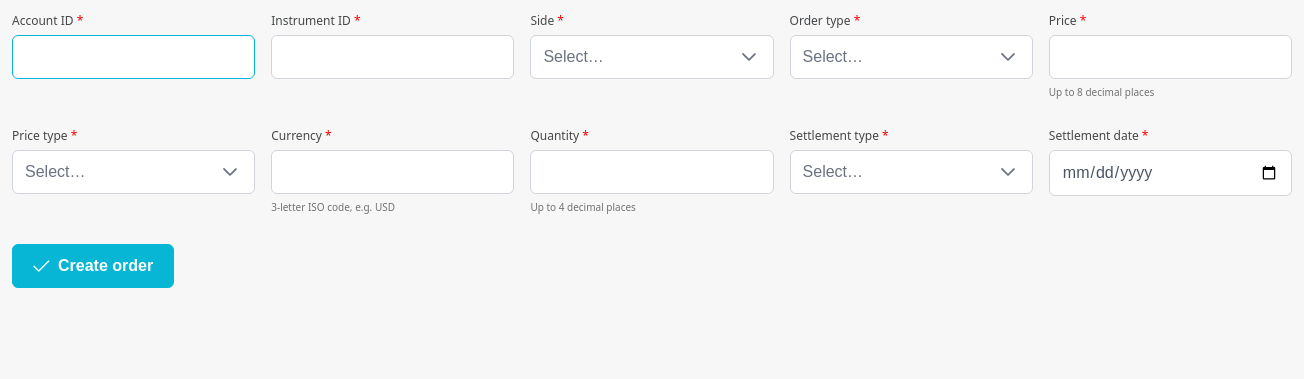
Test case: OrderForm › blocks submission and announces errors when required fields are empty
The image size is (1304, 379).
Click the button "Create order" at (93, 266), box [12,244,174,288]
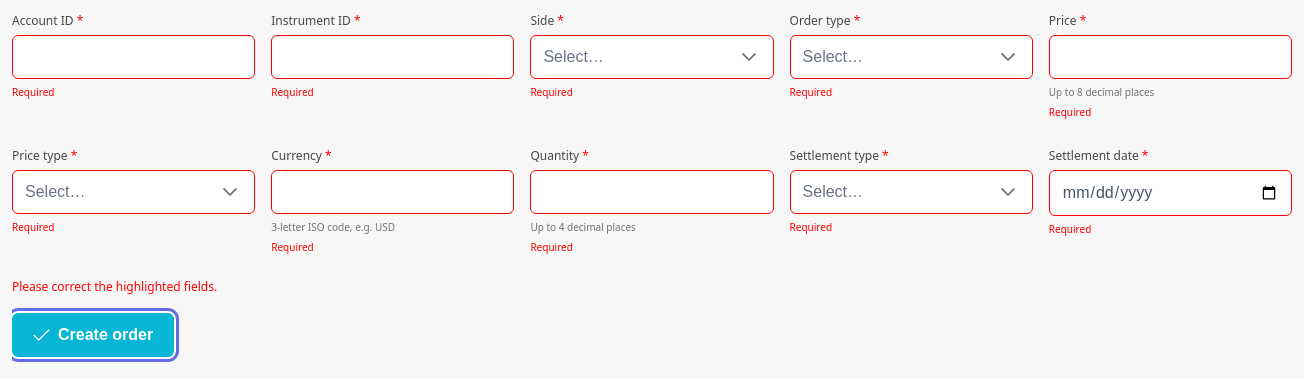
Now the text "Please correct the highlighted fields." is shown, box [12,278,217,295]
